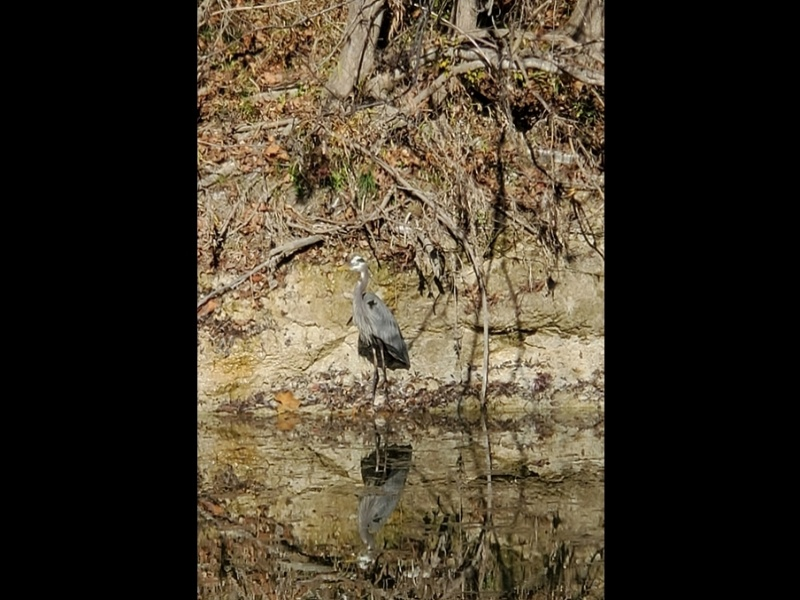heron: (332, 254, 412, 398)
